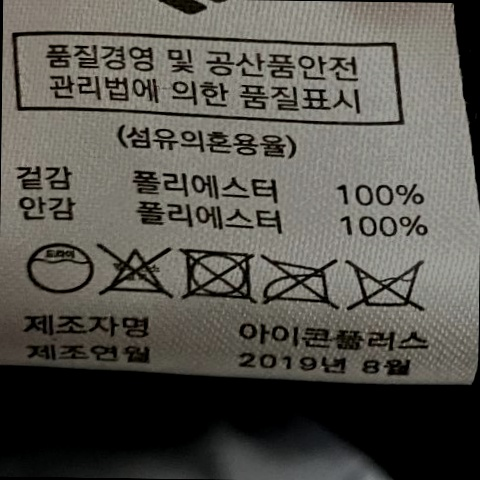DN_bleach: (105, 244, 170, 302)
DN_iron: (259, 255, 338, 309)
DN_tumble_dry: (182, 245, 255, 303)
DN_wash: (346, 253, 429, 314)
dry_clean: (26, 240, 94, 300)
